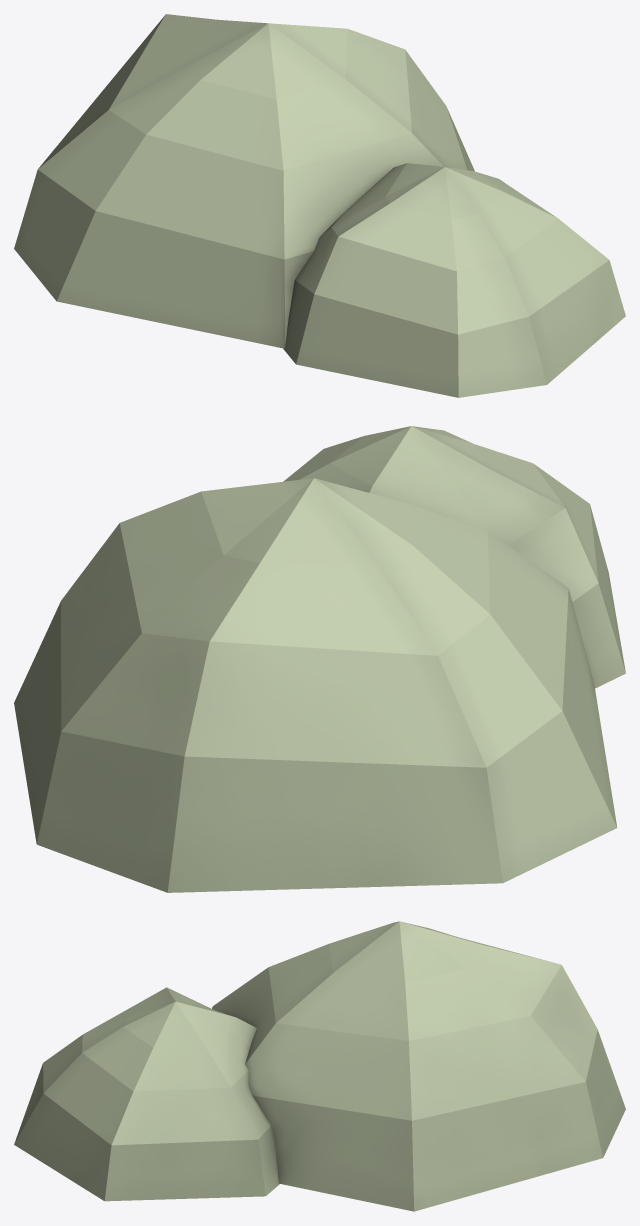
Rendered from RockPack_03.glb.
The picture shows the model from 3 angles, top to bottom: view 1: azimuth 30°, elevation 25°; view 2: azimuth 150°, elevation 25°; view 3: azimuth 270°, elevation 25°; orthographic projection. The views are drawn at different scales.
Parts seen in each view (by area): view 1: RockPack_03; view 2: RockPack_03; view 3: RockPack_03.
Part boxes in pixels (<box>): RockPack_03: <box>14,14,625,397</box>; RockPack_03: <box>14,426,625,892</box>; RockPack_03: <box>14,921,625,1211</box>.
Size of the model in its own units: 2.81 by 1.34 by 3.79.
1 material, 1 textured.
